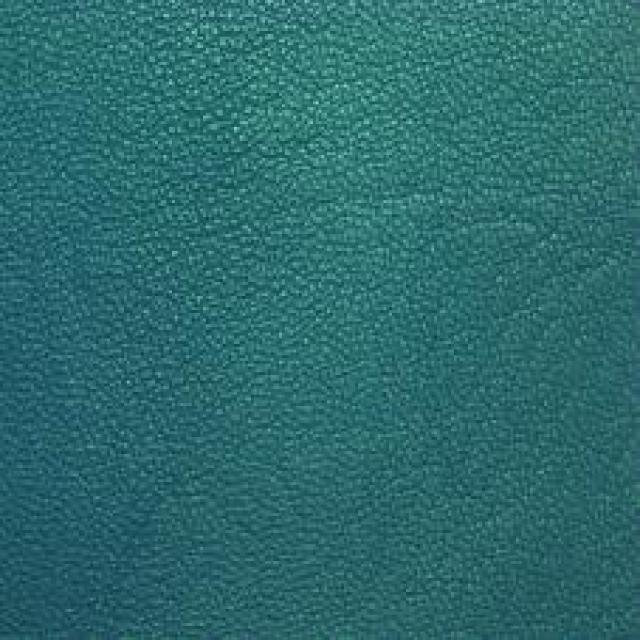Growth Marks: (143, 43, 342, 220), (512, 224, 618, 374)
